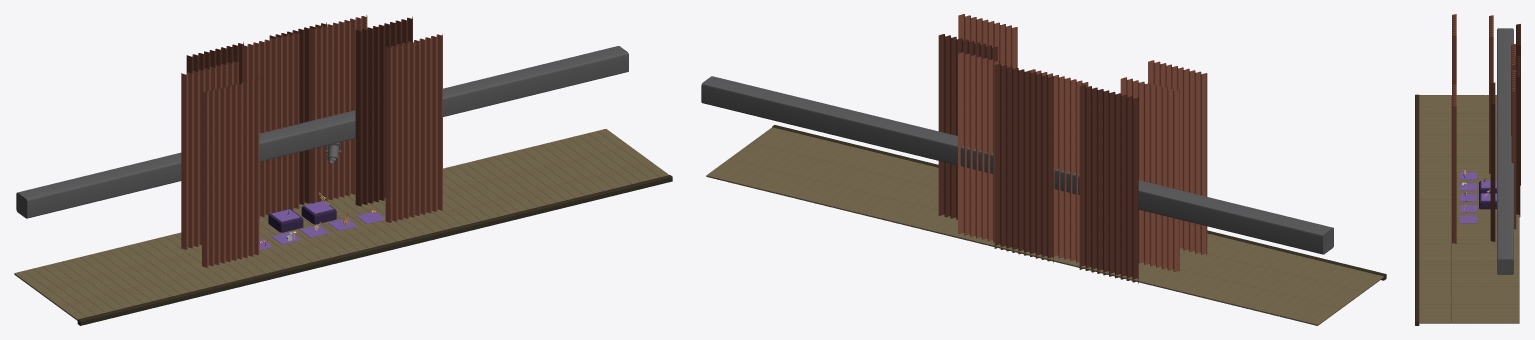
File: Scene_Layout1.fbx
3 views of the same model, side by side, from view 1: azimuth 30°, elevation 25°; view 2: azimuth 150°, elevation 25°; view 3: azimuth 270°, elevation 25° (orthographic). The views are drawn at different scales.
Visible parts, largest first — view 1: Geo_SpotlightBeam, Curtain2, Curtain1, Curtain8, Curtain6, Curtain4, Geo_Front_Guard, Curtain3, Curtain7, Curtain5; view 2: Geo_SpotlightBeam, Curtain5, Curtain7, Curtain3, Curtain8, Curtain1, Curtain6, Curtain4, Curtain2, Geo_Front_Guard; view 3: Geo_SpotlightBeam, Geo_Front_Guard, Curtain4, Curtain7, Curtain2, Curtain8, Curtain3, Curtain1, Curtain5, Curtain6, Board169, Board158 (+133 smaller).
Boxes of the visible parts, <box> form: Geo_SpotlightBeam: <box>16,46,628,218</box>; Curtain2: <box>385,34,442,222</box>; Curtain1: <box>202,78,259,267</box>; Curtain8: <box>310,14,367,203</box>; Curtain6: <box>242,32,299,217</box>; Curtain4: <box>355,16,412,206</box>; Geo_Front_Guard: <box>77,175,672,325</box>; Curtain3: <box>181,60,238,249</box>; Curtain7: <box>269,22,326,204</box>; Curtain5: <box>186,42,243,84</box>; Geo_SpotlightBeam: <box>701,76,1333,254</box>; Curtain5: <box>1079,84,1138,283</box>; Curtain7: <box>994,63,1053,262</box>; Curtain3: <box>1120,77,1179,272</box>; Curtain8: <box>958,52,1017,242</box>; Curtain1: <box>1148,60,1207,255</box>; Curtain6: <box>1030,69,1088,262</box>; Curtain4: <box>938,34,997,219</box>; Curtain2: <box>958,14,1017,67</box>; Geo_Front_Guard: <box>772,125,1386,280</box>; Geo_SpotlightBeam: <box>1497,28,1513,274</box>; Geo_Front_Guard: <box>1415,94,1419,325</box>; Curtain4: <box>1490,82,1495,241</box>; Curtain7: <box>1515,55,1520,216</box>; Curtain2: <box>1452,84,1456,243</box>; Curtain8: <box>1511,70,1516,229</box>; Curtain3: <box>1489,15,1493,173</box>; Curtain1: <box>1452,14,1456,85</box>; Curtain5: <box>1516,24,1520,185</box>; Curtain6: <box>1511,44,1515,135</box>; Board169: <box>1451,304,1485,308</box>; Board158: <box>1451,319,1485,323</box>.
Size of the model in its own units: 1920 by 548 by 371.
